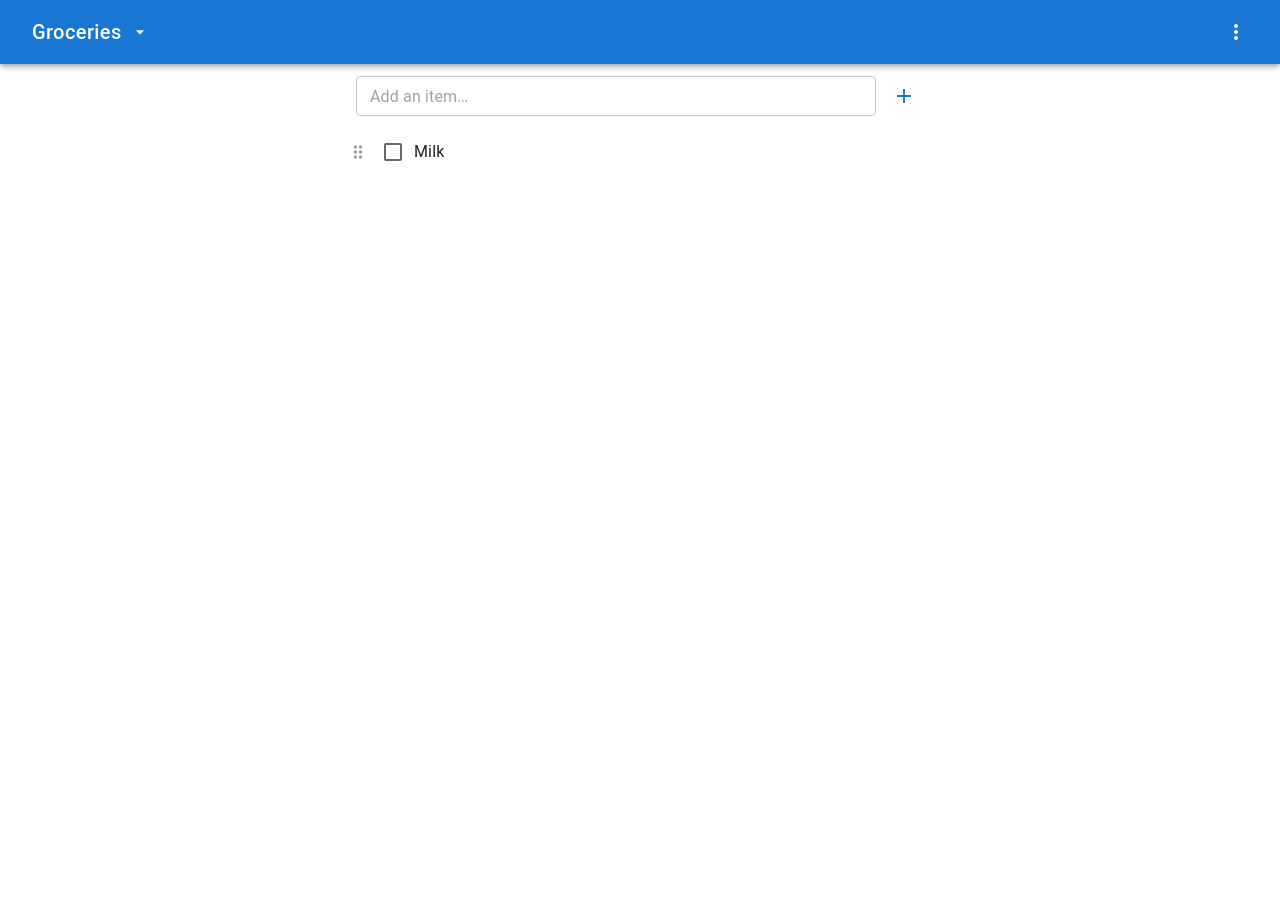
multiple lists › creates a new list and navigates to it
Check: the text "Milk" is shown, box [414, 142, 444, 161]
Click the button "Groceries" at (77, 32), box [24, 8, 1216, 56]
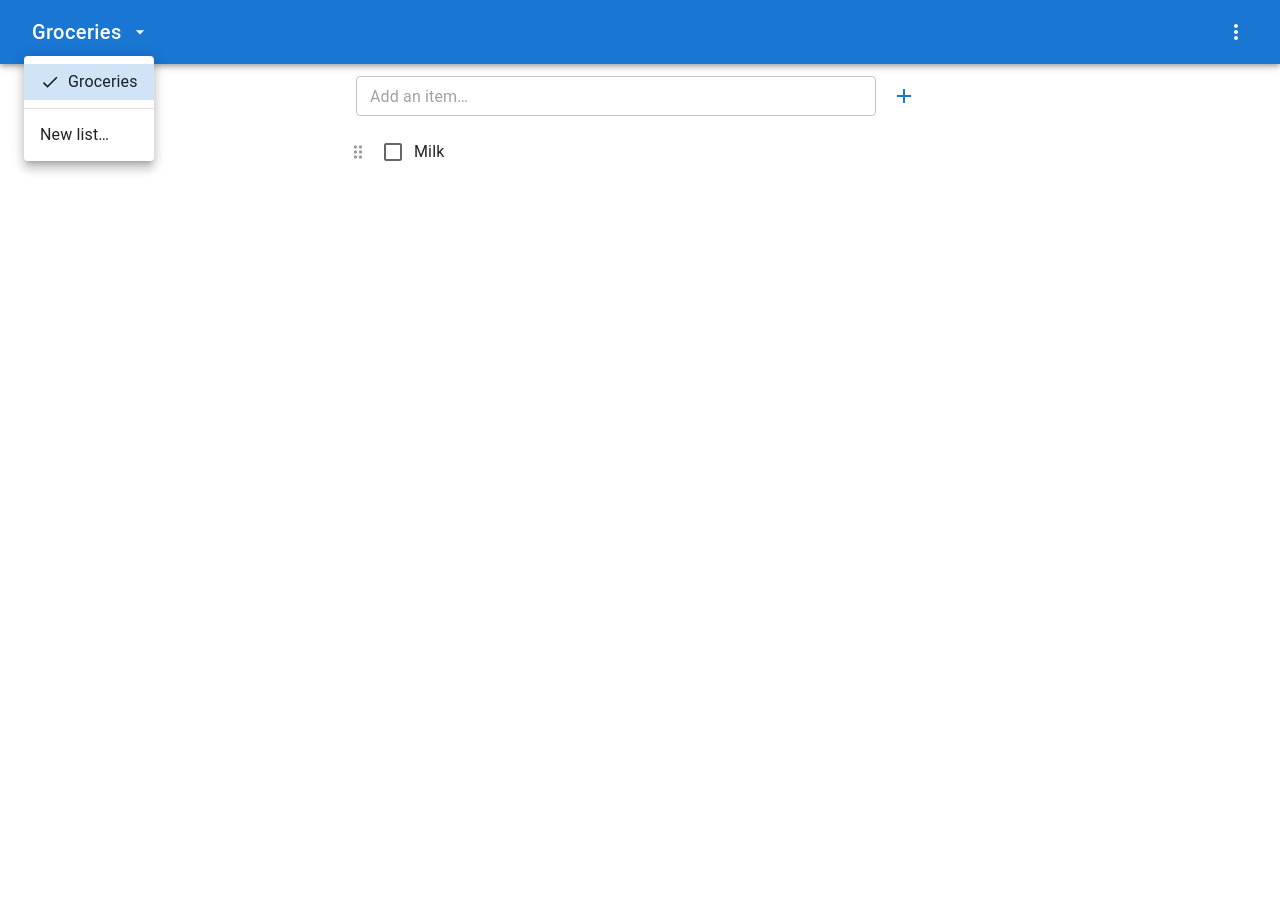
Click the menu item "New list…" at (75, 134), box [40, 125, 109, 144]
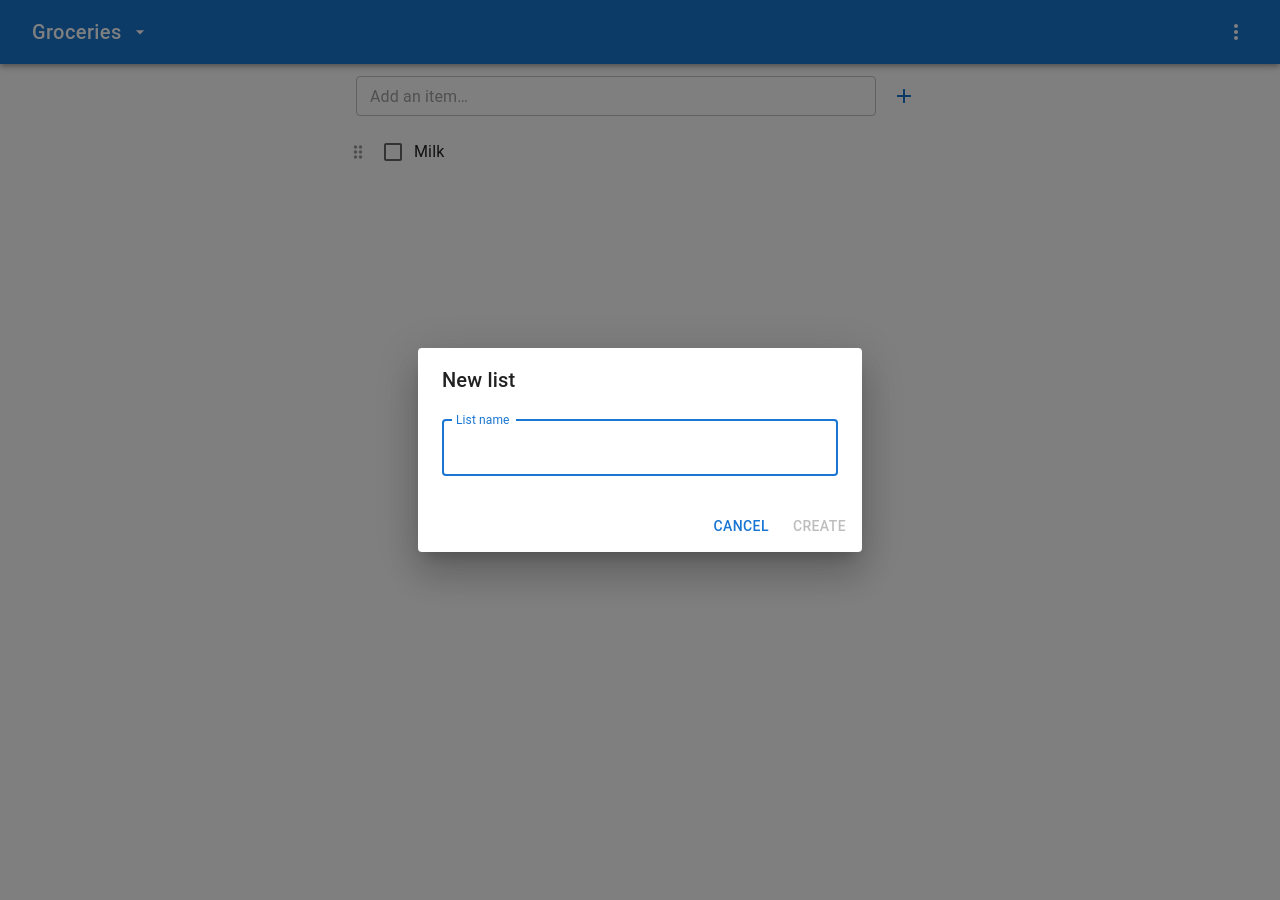
Type "Pharmacy" into the field labelled "List name" at (640, 448), box [442, 420, 838, 476]
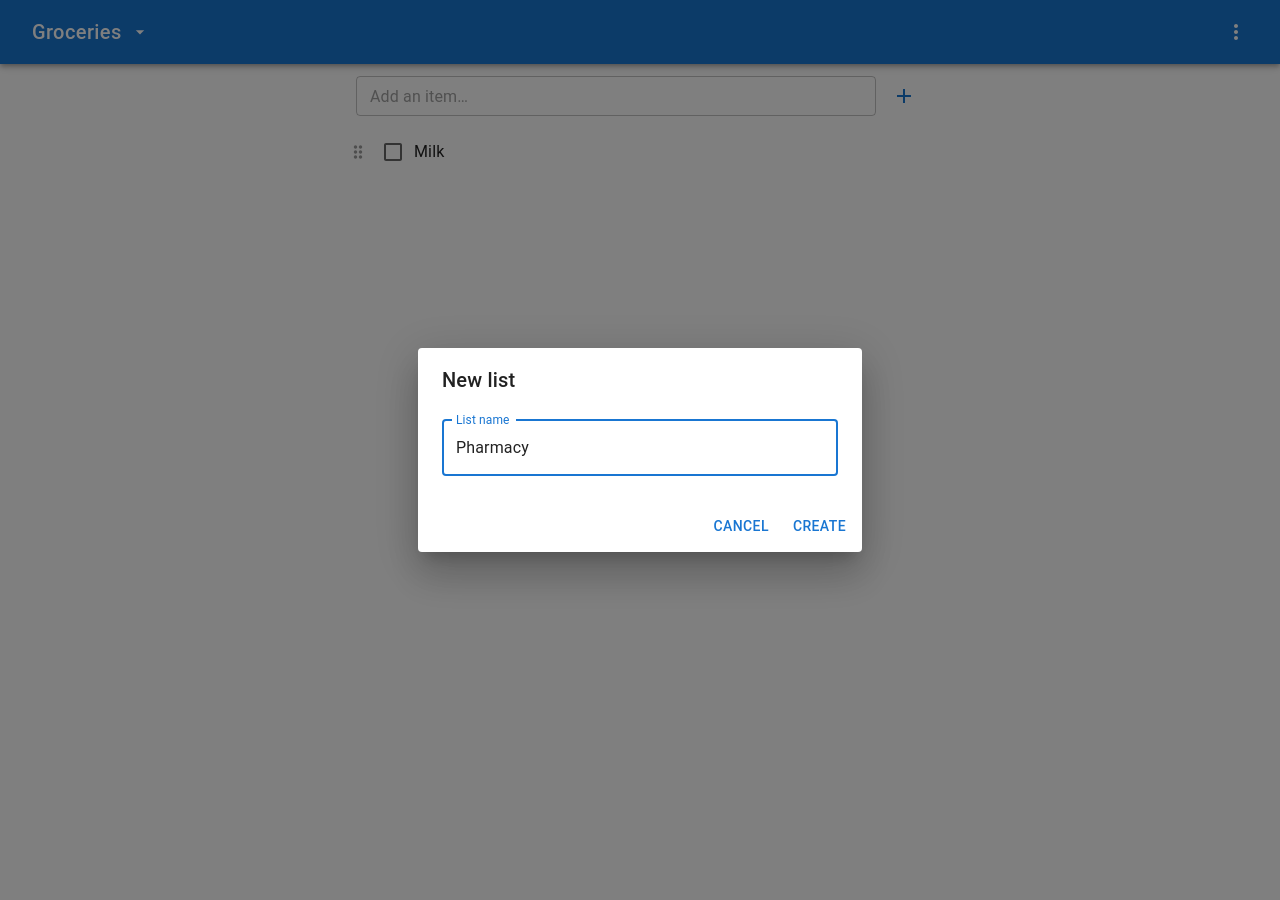
Click the button "Create" at (819, 526), box [785, 508, 854, 544]
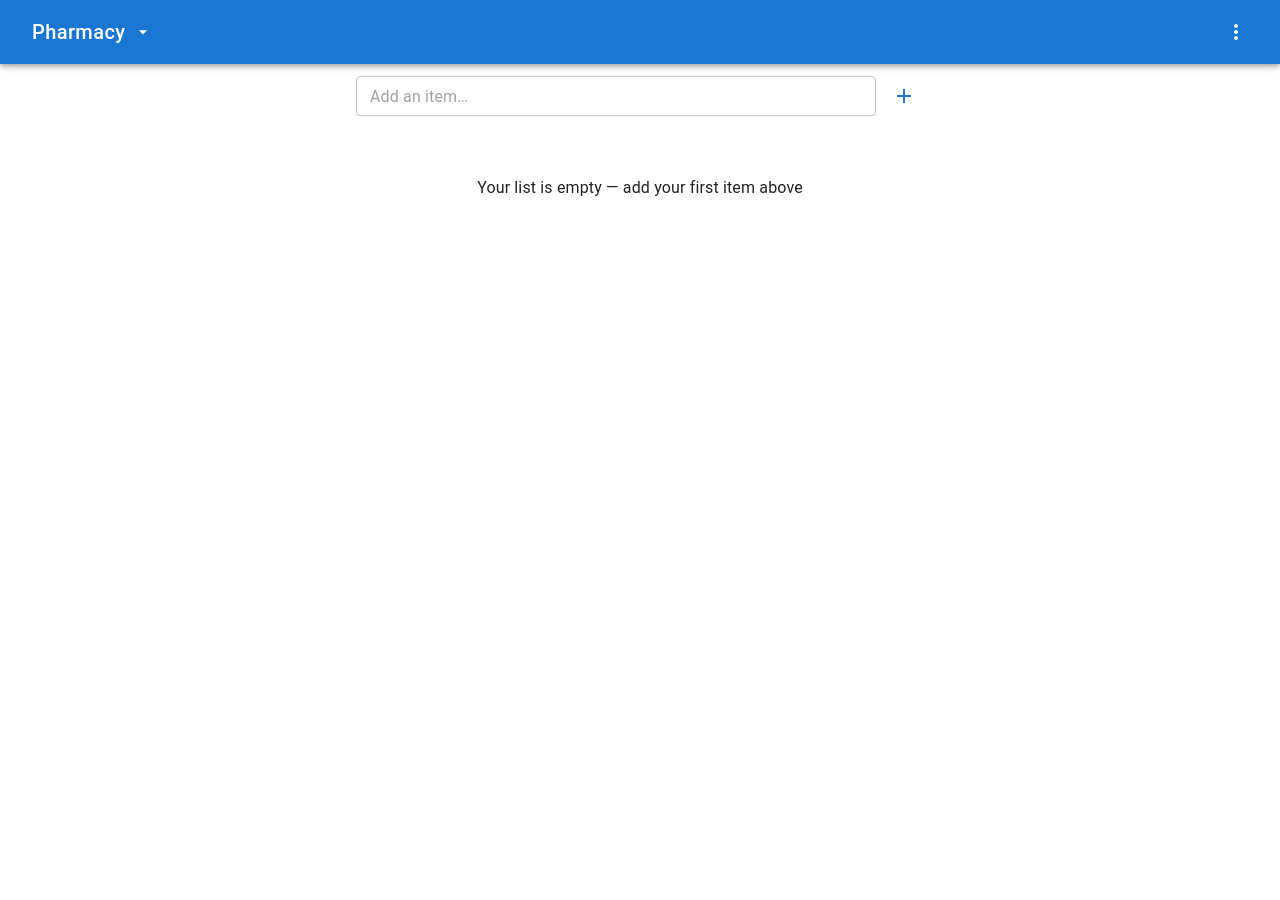
Check: the button "Pharmacy" is shown, box [24, 8, 1216, 56]
Check: the text "Milk" is gone
